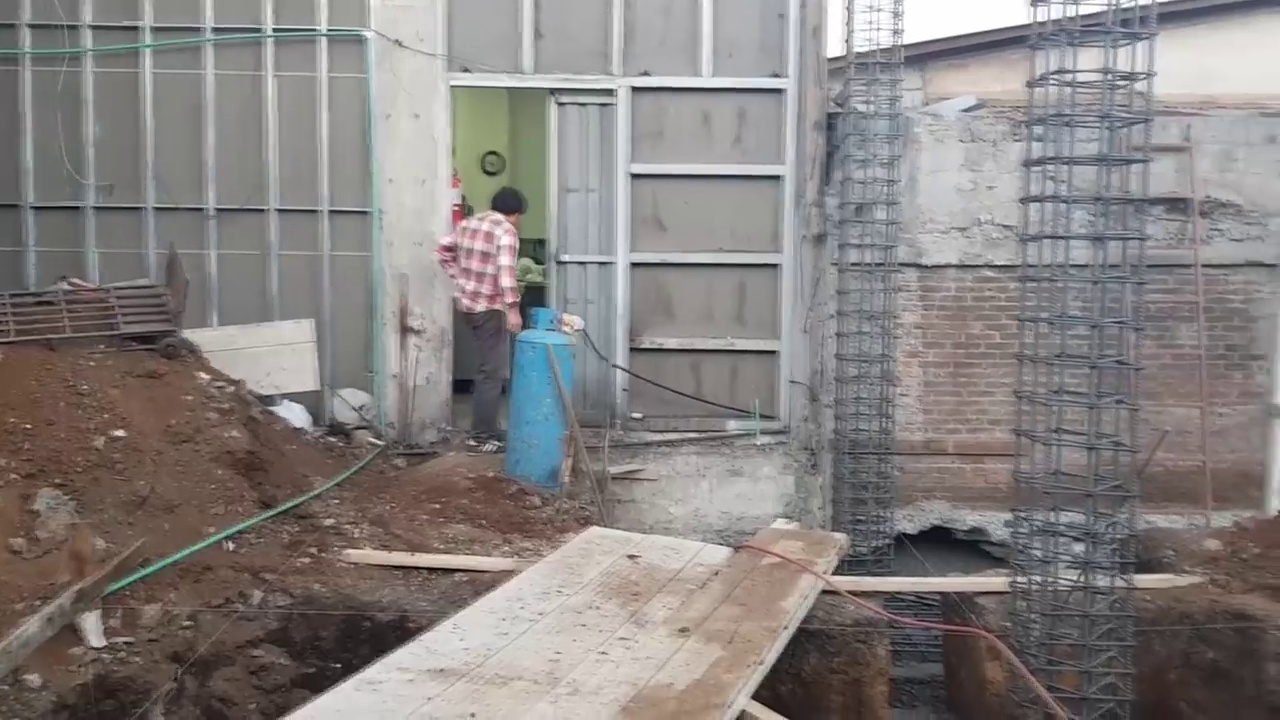helmet-off: (477, 183, 531, 234)
person: (438, 183, 535, 438)
